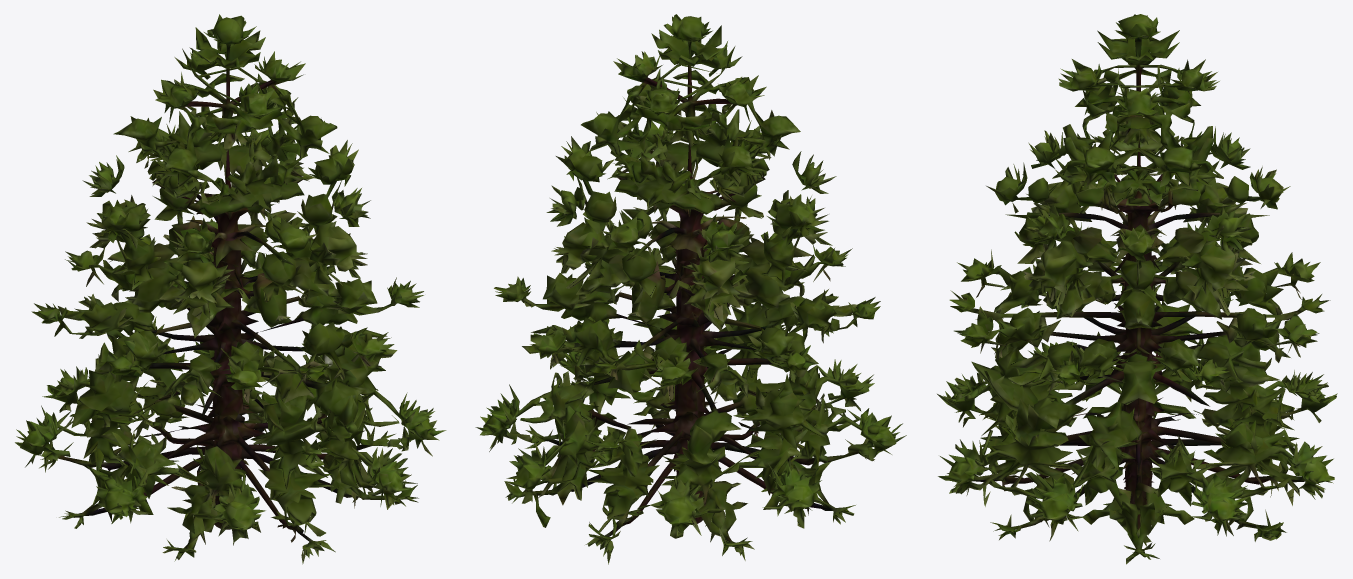
The model's file is tree_conifer_hd-BIYY5Tsu.glb.
3 renders of one model, left to right at view 1: azimuth 30°, elevation 25°; view 2: azimuth 150°, elevation 25°; view 3: azimuth 270°, elevation 25°, orthographic.
Visible parts, largest first — view 1: tripo_node_636df614-116f-4c4c-b0a7-a98eebca72e1; view 2: tripo_node_636df614-116f-4c4c-b0a7-a98eebca72e1; view 3: tripo_node_636df614-116f-4c4c-b0a7-a98eebca72e1.
Part boxes in pixels (x1,y1,x2,y2): tripo_node_636df614-116f-4c4c-b0a7-a98eebca72e1: [15, 14, 446, 564]; tripo_node_636df614-116f-4c4c-b0a7-a98eebca72e1: [475, 14, 906, 564]; tripo_node_636df614-116f-4c4c-b0a7-a98eebca72e1: [937, 14, 1337, 564].
Size of the model in its own units: 0.6877 by 0.9702 by 0.6972.
1 material, 1 textured.
